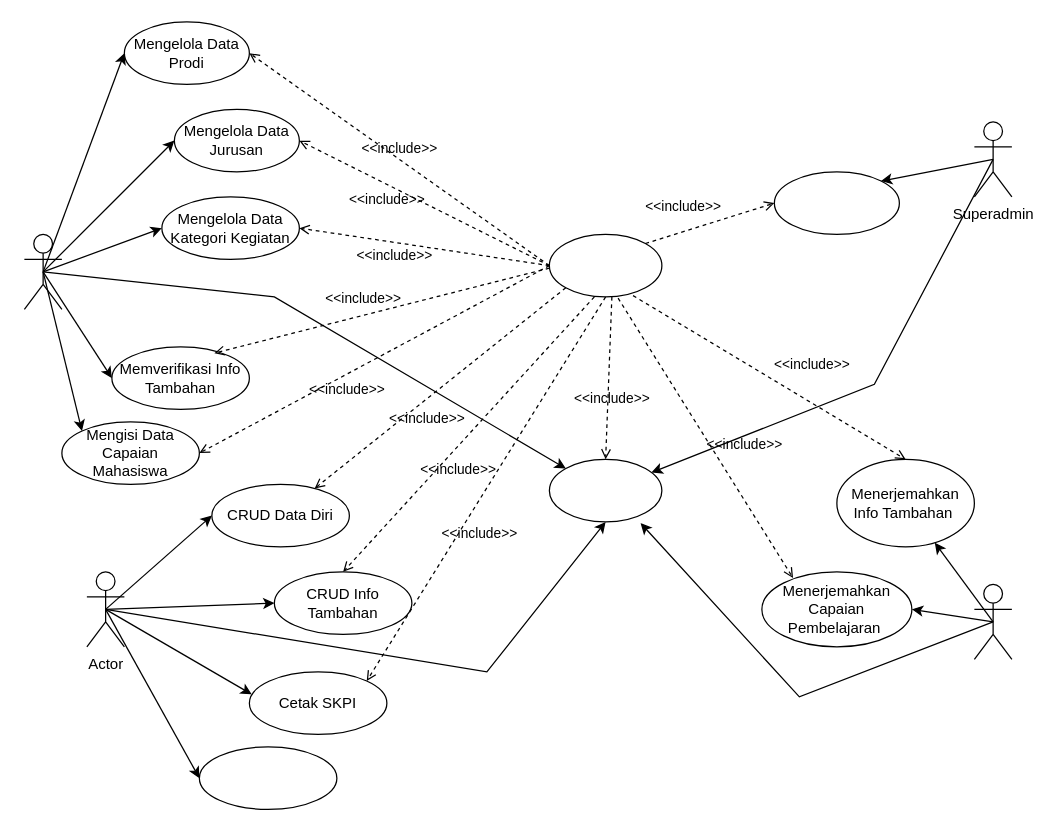
Image size: 1055x831. Some labels were removed from this diagram. The shapes that lost their labels are listed below. From the top down, each one's centre as x and y in pixels, then its label:
At point (836, 202): "Menambah dan Menghapus Akun".
At point (42, 271): "Admin".
At point (605, 265): "Login".
At point (605, 490): "Edit Profil & Password".
At point (992, 621): "Penerjemah".
At point (267, 777): "Register".
